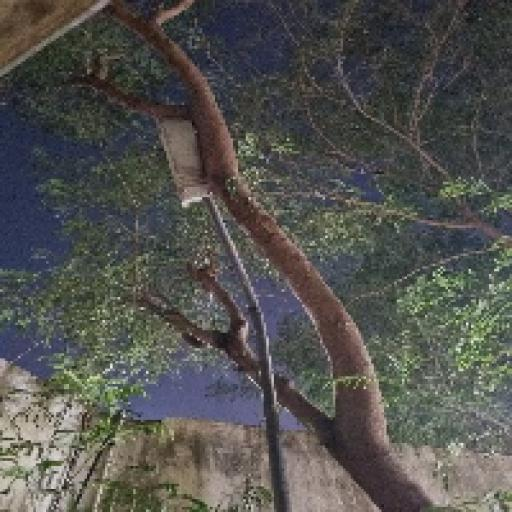Not Working: (149, 105, 222, 219)
